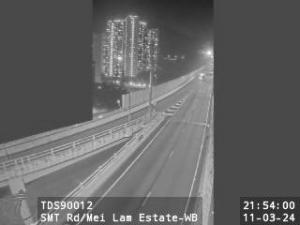vehicle: (198, 73, 206, 81)
